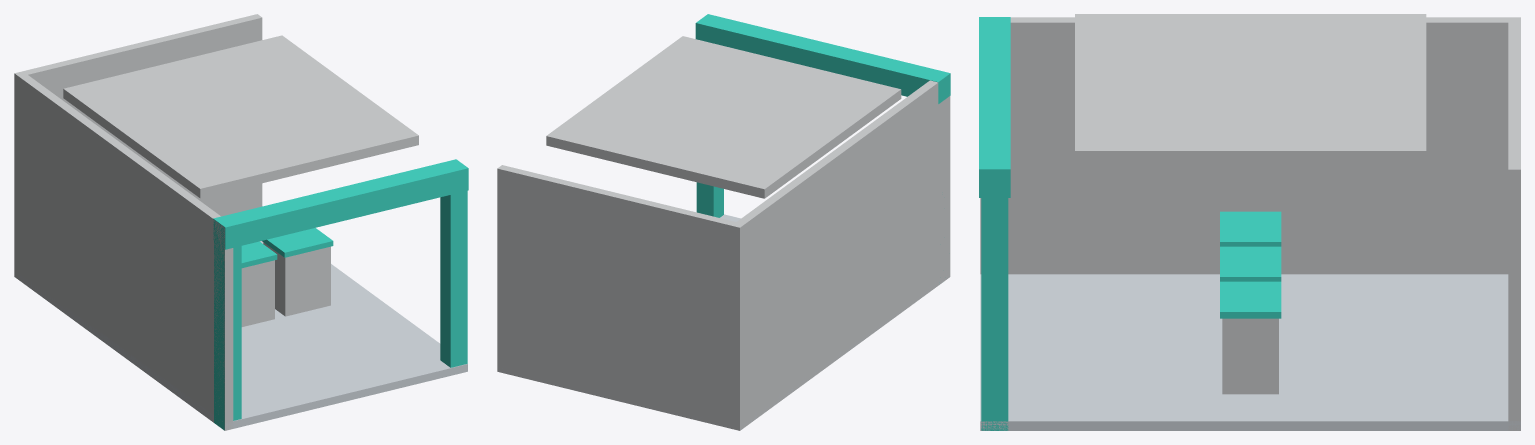
3 renders of one model, left to right at view 1: azimuth 30°, elevation 25°; view 2: azimuth 150°, elevation 25°; view 3: azimuth 270°, elevation 25°, orthographic. The views are drawn at different scales.
Parts seen in each view (by area): view 1: Exhibition Booth Concept; view 2: Exhibition Booth Concept; view 3: Exhibition Booth Concept.
Boxes of the visible parts, box(x1,y1,x2,y2) form: Exhibition Booth Concept: box(14, 14, 468, 430); Exhibition Booth Concept: box(497, 14, 950, 430); Exhibition Booth Concept: box(979, 14, 1520, 430).
Bounding box in the file's own units: 4 × 3.34 × 6.02.
